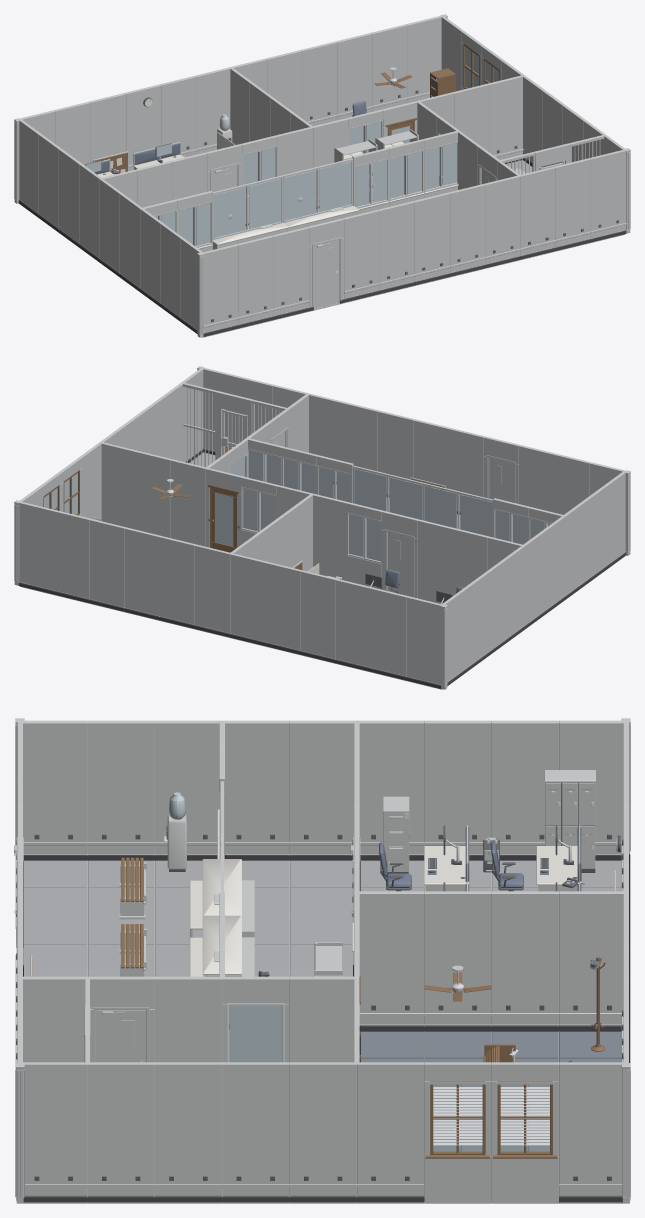
File: police-station-and-detective-office-stat-888d4012-starter-scene__29991.glb
3 views of the same model, one above another, from view 1: azimuth 30°, elevation 25°; view 2: azimuth 150°, elevation 25°; view 3: azimuth 270°, elevation 25° (orthographic). The views are drawn at different scales.
Parts seen in each view (by area): view 1: 121-partition-wall-plain/0, 127-partition-wall-plain/0, 128-partition-wall-plain/0, 124-partition-wall-plain/0, 125-partition-wall-plain/0, 126-partition-wall-plain/0, 130-partition-wall-plain/0, 129-partition-wall-plain/0, 181-front-counter-bay/4, 131-partition-wall-plain/0, 120-partition-wall-plain/0, 122-partition-wall-plain/0 (+68 smaller); view 2: 111-partition-wall-plain/0, 113-partition-wall-plain/0, 118-partition-wall-plain/0, 109-partition-wall-plain/0, 112-partition-wall-plain/0, 114-partition-wall-plain/0, 115-partition-wall-plain/0, 108-partition-wall-plain/0, 116-partition-wall-plain/0, 117-partition-wall-plain/0, 119-partition-wall-plain/0, 110-partition-wall-plain/0 (+62 smaller); view 3: 139-partition-wall-plain/0, 144-partition-wall-plain/0, 145-partition-wall-plain/0, 146-partition-wall-plain/0, 147-partition-wall-plain/0, 148-partition-wall-plain/0, 167-partition-wall-plain/0, 169-partition-wall-plain/0, 137-partition-wall-plain/0, 140-partition-wall-plain/0, 136-partition-wall-plain/0, 168-partition-wall-plain/0 (+68 smaller).
Boxes of the visible parts, left/top/right/bottom form: 121-partition-wall-plain/0: left=237, top=235, right=274, bottom=324; 127-partition-wall-plain/0: left=448, top=184, right=485, bottom=273; 128-partition-wall-plain/0: left=484, top=175, right=520, bottom=264; 124-partition-wall-plain/0: left=343, top=209, right=379, bottom=299; 125-partition-wall-plain/0: left=378, top=201, right=415, bottom=290; 126-partition-wall-plain/0: left=413, top=192, right=450, bottom=281; 130-partition-wall-plain/0: left=554, top=158, right=591, bottom=247; 129-partition-wall-plain/0: left=520, top=167, right=556, bottom=256; 181-front-counter-bay/4: left=284, top=161, right=351, bottom=220; 131-partition-wall-plain/0: left=589, top=149, right=626, bottom=238; 120-partition-wall-plain/0: left=202, top=244, right=239, bottom=333; 122-partition-wall-plain/0: left=272, top=227, right=309, bottom=316; 111-partition-wall-plain/0: left=300, top=570, right=336, bottom=659; 113-partition-wall-plain/0: left=230, top=553, right=266, bottom=642; 118-partition-wall-plain/0: left=54, top=510, right=90, bottom=599; 109-partition-wall-plain/0: left=371, top=587, right=407, bottom=676; 112-partition-wall-plain/0: left=265, top=561, right=301, bottom=651; 114-partition-wall-plain/0: left=195, top=544, right=230, bottom=633; 115-partition-wall-plain/0: left=159, top=536, right=196, bottom=625; 108-partition-wall-plain/0: left=406, top=596, right=442, bottom=685; 116-partition-wall-plain/0: left=124, top=527, right=160, bottom=616; 117-partition-wall-plain/0: left=89, top=519, right=125, bottom=608; 119-partition-wall-plain/0: left=19, top=501, right=55, bottom=590; 110-partition-wall-plain/0: left=336, top=579, right=372, bottom=668; 139-partition-wall-plain/0: left=87, top=720, right=154, bottom=855; 144-partition-wall-plain/0: left=357, top=1062, right=424, bottom=1196; 145-partition-wall-plain/0: left=289, top=1062, right=356, bottom=1196; 146-partition-wall-plain/0: left=222, top=1062, right=289, bottom=1196; 147-partition-wall-plain/0: left=155, top=1062, right=222, bottom=1196; 148-partition-wall-plain/0: left=87, top=1062, right=154, bottom=1196; 167-partition-wall-plain/0: left=491, top=891, right=558, bottom=1025; 169-partition-wall-plain/0: left=357, top=891, right=424, bottom=1025; 137-partition-wall-plain/0: left=222, top=720, right=289, bottom=855; 140-partition-wall-plain/0: left=21, top=720, right=87, bottom=855; 136-partition-wall-plain/0: left=289, top=720, right=356, bottom=854; 168-partition-wall-plain/0: left=424, top=891, right=491, bottom=1025.
Size of the model in its own units: 14.71 by 3.05 by 10.99.
